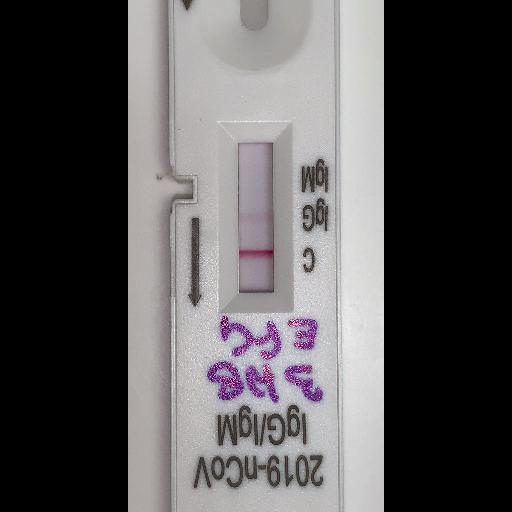Pos: (171, 0, 344, 511)
